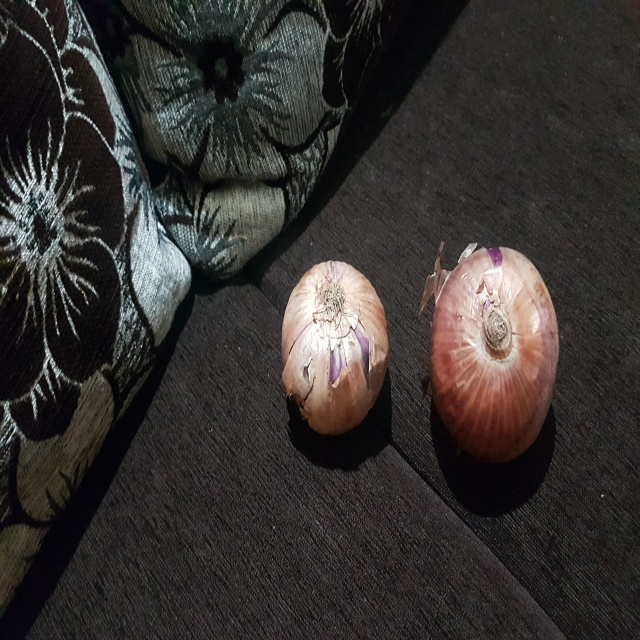onion: (422, 231, 567, 471), (270, 249, 399, 445)
